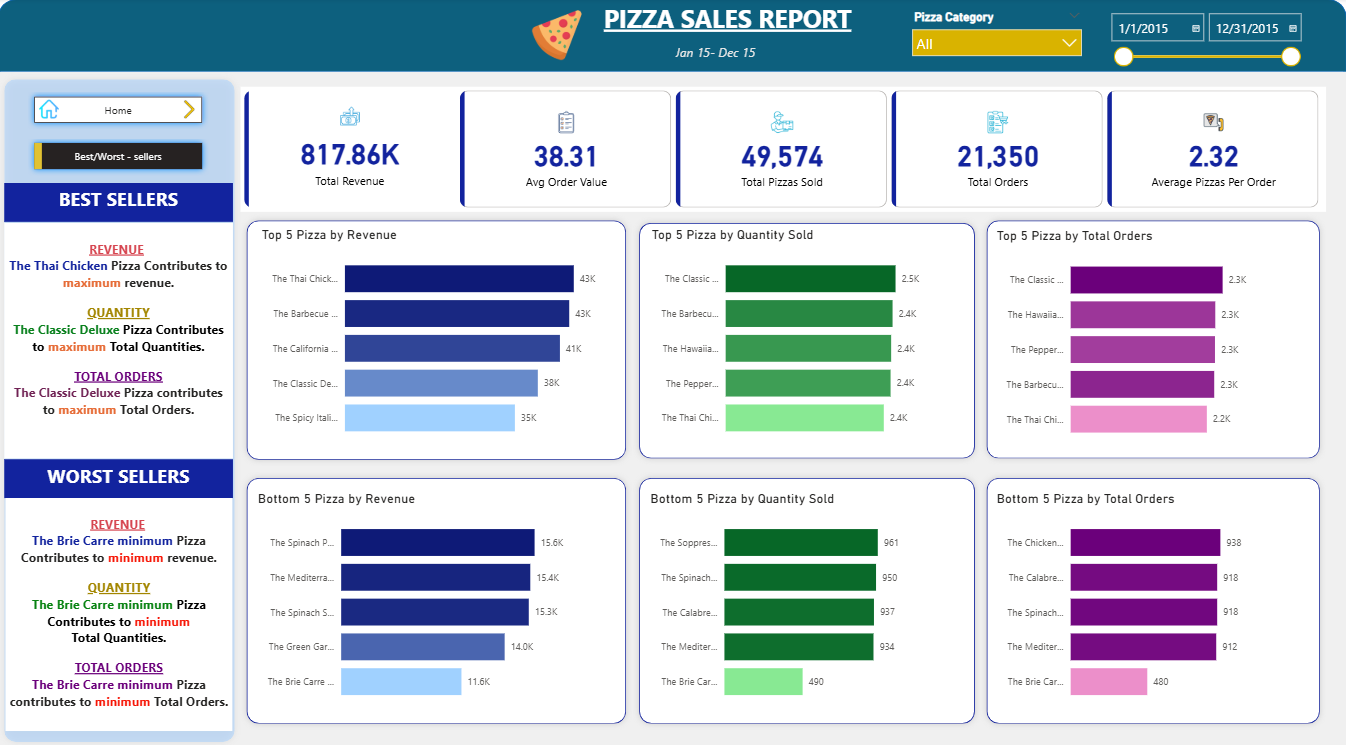

Layout of this report page (visuals, bound fields, positions):
{"tool":"powerbi","page":{"name":"Best/Worst - sellers","canvas":[1750,975],"ordinal":1},"visuals":[{"type":"cardVisual","fields":{"Data":["KeyMeasures.Total Revenue","KeyMeasures.Avg Order Value","KeyMeasures.Total Pizzas Sold","KeyMeasures.Total Orders","KeyMeasures.Average Pizzas Per Order"]},"box":[314.8,114.5,1408.5,162.2],"z":0},{"type":"shape","box":[0,2,1750,94],"z":1000},{"type":"textbox","box":[759.8,0,375.2,56.3],"z":2000},{"type":"textbox","box":[875,53.3,126.7,41.7],"z":3000},{"type":"image","box":[675.4,9.4,101.3,76.9],"z":4000},{"type":"shape","box":[315,280,508.3,326.7],"z":5000},{"type":"shape","box":[1275,280,448.3,325],"z":6000},{"type":"shape","box":[1275,615,448.3,335],"z":7000},{"type":"shape","box":[823.3,615,451.7,335],"z":8000},{"type":"shape","box":[315,615,508.3,335],"z":9000},{"type":"shape","box":[0,97.6,315.2,876.1],"z":10000},{"type":"textbox","box":[7.5,240.1,296.4,50.7],"z":11000},{"type":"textbox","box":[7.5,292.7,296.4,305.8],"z":12000},{"type":"textbox","box":[7.5,598.5,296.4,50.7],"z":13000},{"type":"slicer","fields":{"Values":["pizza_sales.pizza_category"]},"box":[1176.7,3.3,240,93.3],"z":14000},{"type":"slicer","fields":{"Values":["pizza_sales.order_date"]},"box":[1431.7,1.7,266.7,93.3],"z":15000},{"type":"shape","box":[823.3,283.3,451.7,321.7],"z":16000},{"type":"clusteredBarChart","title":"Top 5 Pizza by Revenue","fields":{"Y":["KeyMeasures.Total Revenue"],"Category":["pizza_sales.pizza_name"]},"box":[336.7,296.7,473.3,290],"z":17000},{"type":"clusteredBarChart","title":"Bottom 5 Pizza by Revenue","fields":{"Y":["KeyMeasures.Total Revenue"],"Category":["pizza_sales.pizza_name"]},"box":[333.3,638.3,473.3,290],"z":18000},{"type":"clusteredBarChart","title":"Top 5 Pizza by Quantity Sold","fields":{"Category":["pizza_sales.pizza_name"],"Y":["KeyMeasures.Total Pizzas Sold"]},"box":[843.3,296.7,416.7,290],"z":19000},{"type":"clusteredBarChart","title":"Bottom 5 Pizza by Quantity Sold","fields":{"Category":["pizza_sales.pizza_name"],"Y":["KeyMeasures.Total Pizzas Sold"]},"box":[841.7,638.3,416.7,290],"z":20000},{"type":"clusteredBarChart","title":"Top 5 Pizza by Total Orders","fields":{"Category":["pizza_sales.pizza_name"],"Y":["KeyMeasures.Total Orders"]},"box":[1291.7,298.3,416.7,290],"z":21000},{"type":"clusteredBarChart","title":"Bottom 5 Pizza by Total Orders","fields":{"Category":["pizza_sales.pizza_name"],"Y":["KeyMeasures.Total Orders"]},"box":[1291.7,638.3,416.7,290],"z":22000},{"type":"textbox","box":[9.4,649.1,294.5,302],"z":23000},{"type":"pageNavigator","box":[39.4,120.1,234.5,50.7],"z":24000},{"type":"pageNavigator","box":[39.4,180.1,234.5,50.7],"z":25000},{"type":"image","box":[232.2,126.7,33.3,35.6],"z":25001},{"type":"image","box":[43.3,126.7,44.4,35.6],"z":25002}]}

Visuals, with their boxes in screenshot pixels (x1, y1, x2, y2), scaled from the page's 1750x975 canvas onto the 1346x745 screenshot:
cardVisual - KeyMeasures.Total Revenue x KeyMeasures.Avg Order Value: 242:87:1325:211
shape: 0:2:1345:73
textbox: 584:0:873:43
textbox: 673:41:770:73
image: 519:7:597:66
shape: 242:214:633:464
shape: 981:214:1325:462
shape: 981:470:1325:726
shape: 633:470:981:726
shape: 242:470:633:726
shape: 0:75:242:744
textbox: 6:183:234:222
textbox: 6:224:234:457
textbox: 6:457:234:496
slicer - pizza_sales.pizza_category: 905:3:1090:74
slicer - pizza_sales.order_date: 1101:1:1306:73
shape: 633:216:981:462
"Top 5 Pizza by Revenue" clusteredBarChart: 259:227:623:448
"Bottom 5 Pizza by Revenue" clusteredBarChart: 256:488:620:709
"Top 5 Pizza by Quantity Sold" clusteredBarChart: 649:227:969:448
"Bottom 5 Pizza by Quantity Sold" clusteredBarChart: 647:488:968:709
"Top 5 Pizza by Total Orders" clusteredBarChart: 994:228:1314:450
"Bottom 5 Pizza by Total Orders" clusteredBarChart: 994:488:1314:709
textbox: 7:496:234:727
pageNavigator: 30:92:211:131
pageNavigator: 30:138:211:176
image: 179:97:204:124
image: 33:97:67:124
